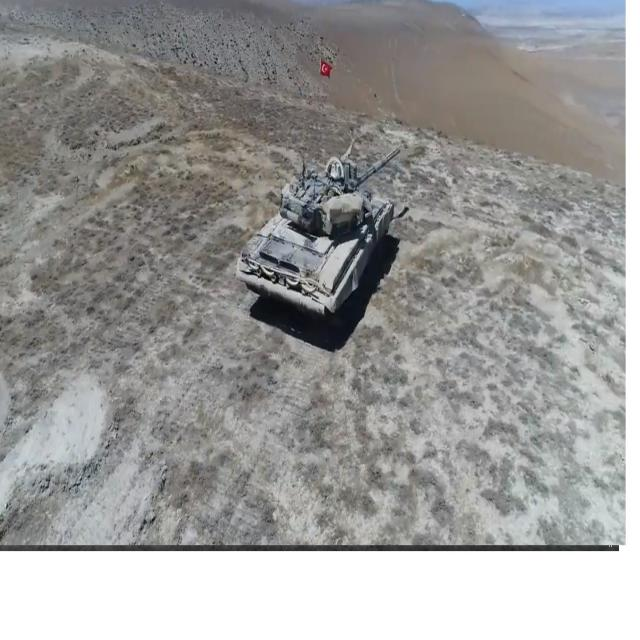tank: (235, 147, 408, 340)
